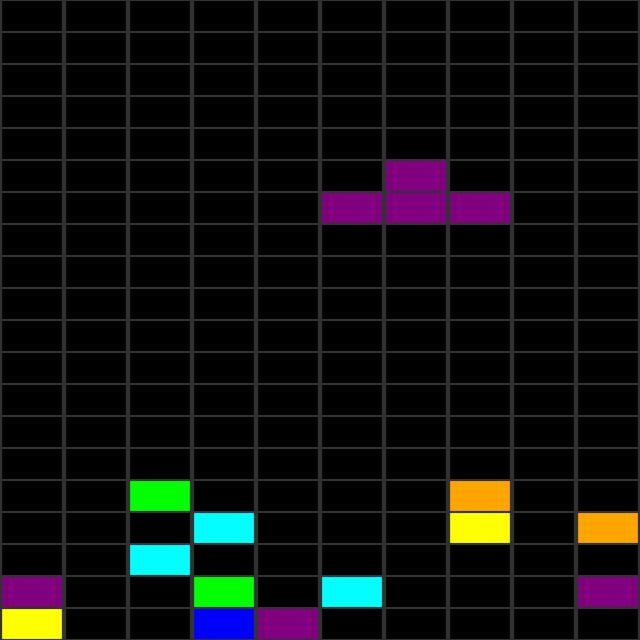Tetrimino_J: (318, 157, 514, 223)
